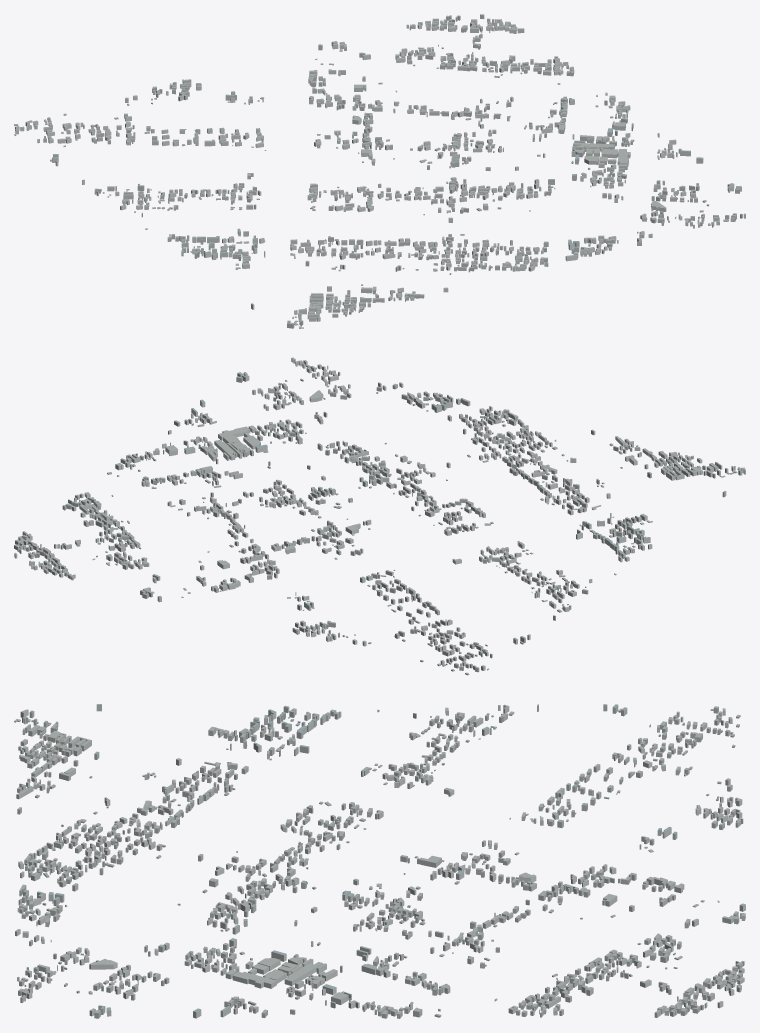
The model's file is far.glb.
The picture shows the model from 3 angles, top to bottom: view 1: azimuth 30°, elevation 25°; view 2: azimuth 150°, elevation 25°; view 3: azimuth 270°, elevation 25°; orthographic projection. The views are drawn at different scales.
Size of the model in its own units: 2098 by 22.4 by 2100.
